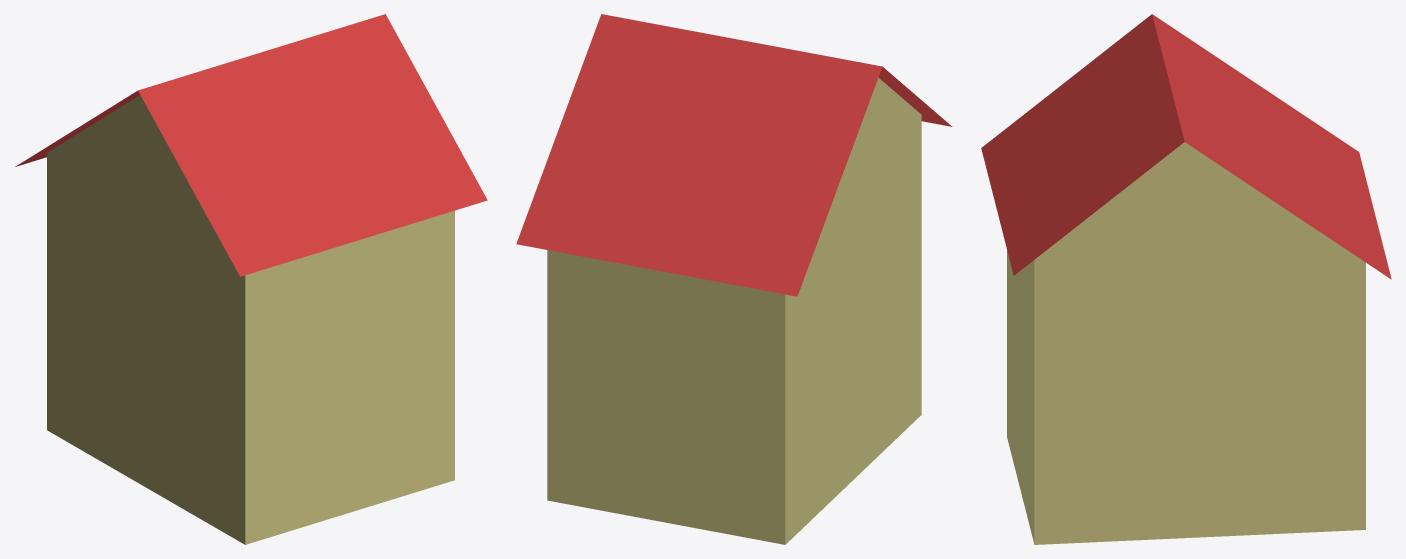
3 renders of one model, left to right at view 1: azimuth 30°, elevation 25°; view 2: azimuth 150°, elevation 25°; view 3: azimuth 270°, elevation 25°, orthographic.
Size of the model in its own units: 7.36 by 8.8 by 9.6.
